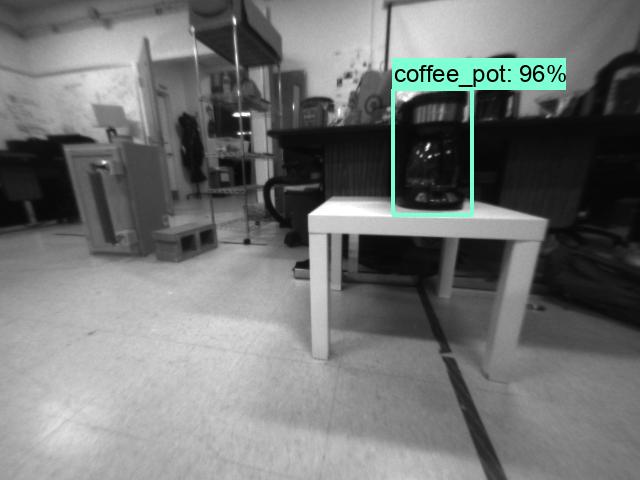coffee_pot: (392, 90, 467, 213)
